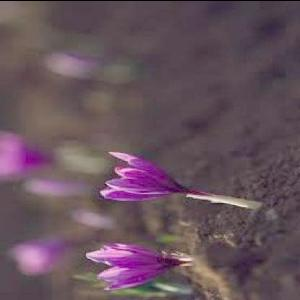Saffron: (86, 242, 178, 290), (100, 150, 184, 200), (0, 132, 57, 176), (10, 235, 68, 273)
